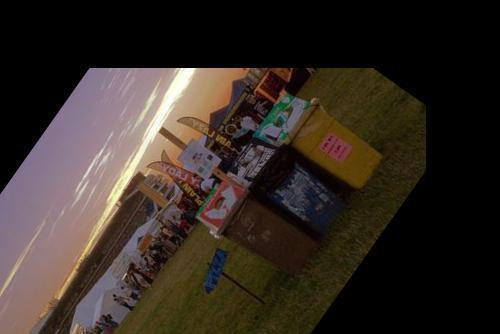Bote de Basura: (252, 83, 388, 202), (189, 174, 318, 288), (224, 133, 346, 242)
